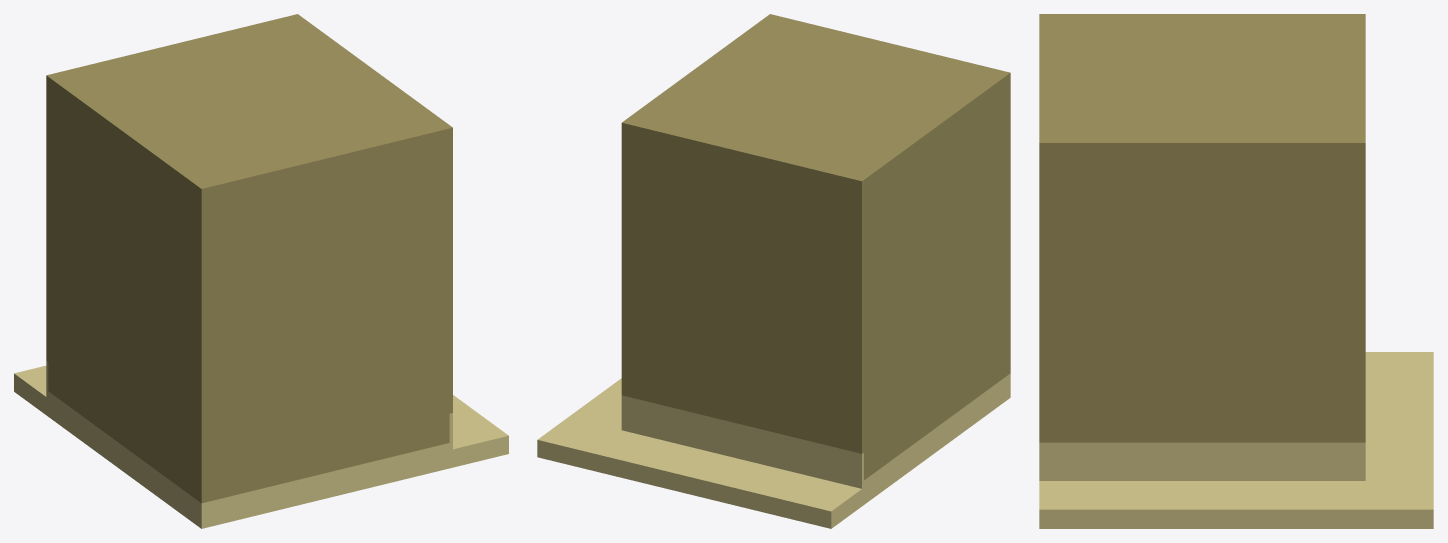
Rendered from sandtower_1.0-5.obj.
The picture shows the model from 3 angles, left to right: view 1: azimuth 30°, elevation 25°; view 2: azimuth 150°, elevation 25°; view 3: azimuth 270°, elevation 25°; orthographic projection. The views are drawn at different scales.
Bounding box in the file's own units: 17.6 × 18.6 × 18.6.
Materials: 1 (1 with a texture image).
